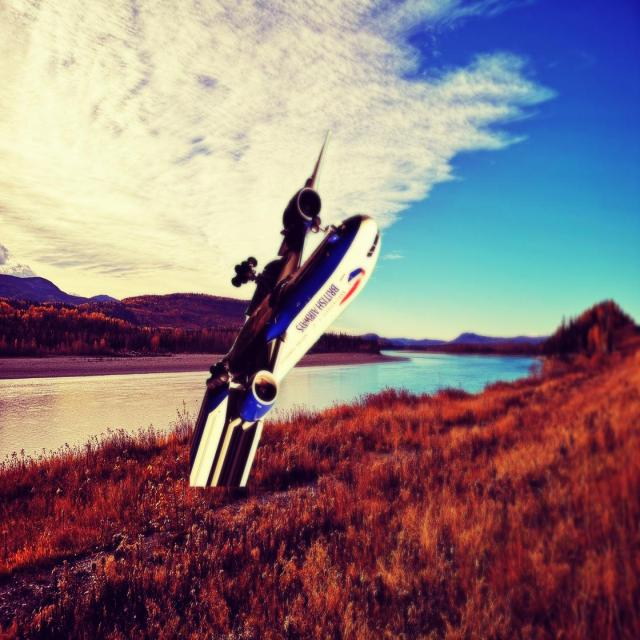airplane: (188, 128, 380, 492)
